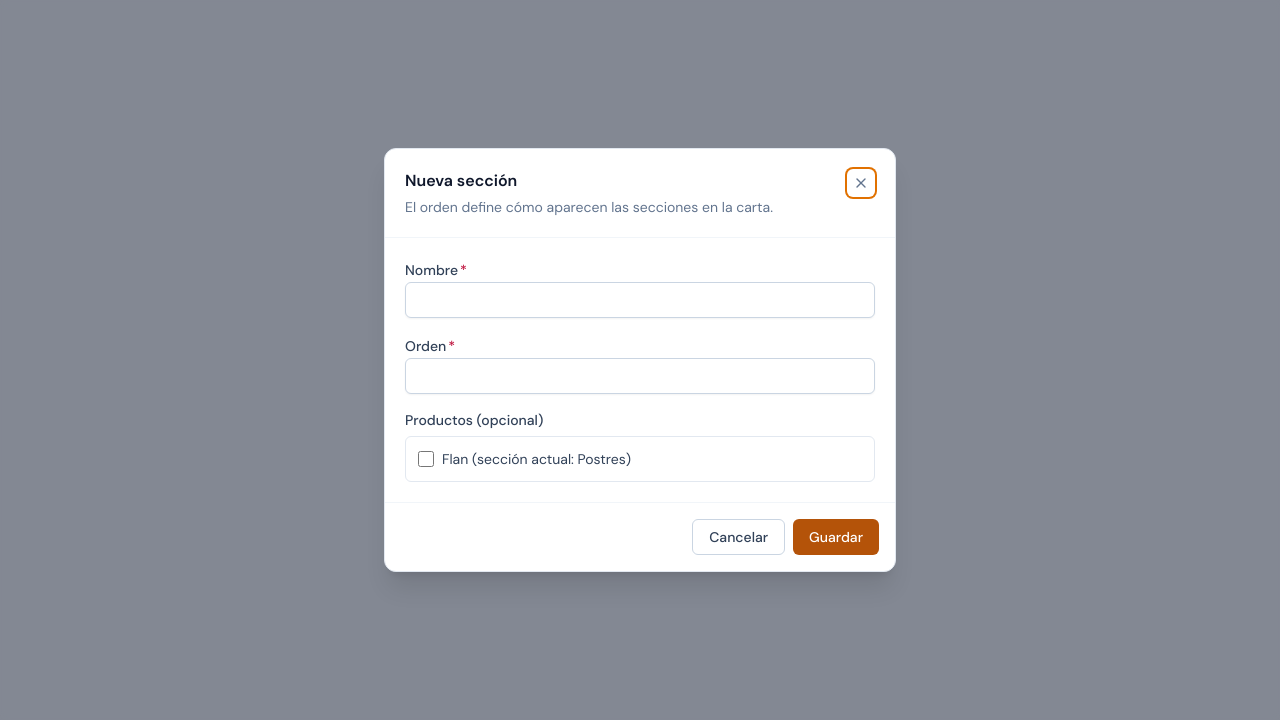
SeccionFormDialog: errores del servidor › muestra el 409 de nombre repetido bajo el campo (CA 3)
Type "Postres" into the field labelled "Nombre*". click: (640, 300)
box: 405,282 -> 875,318
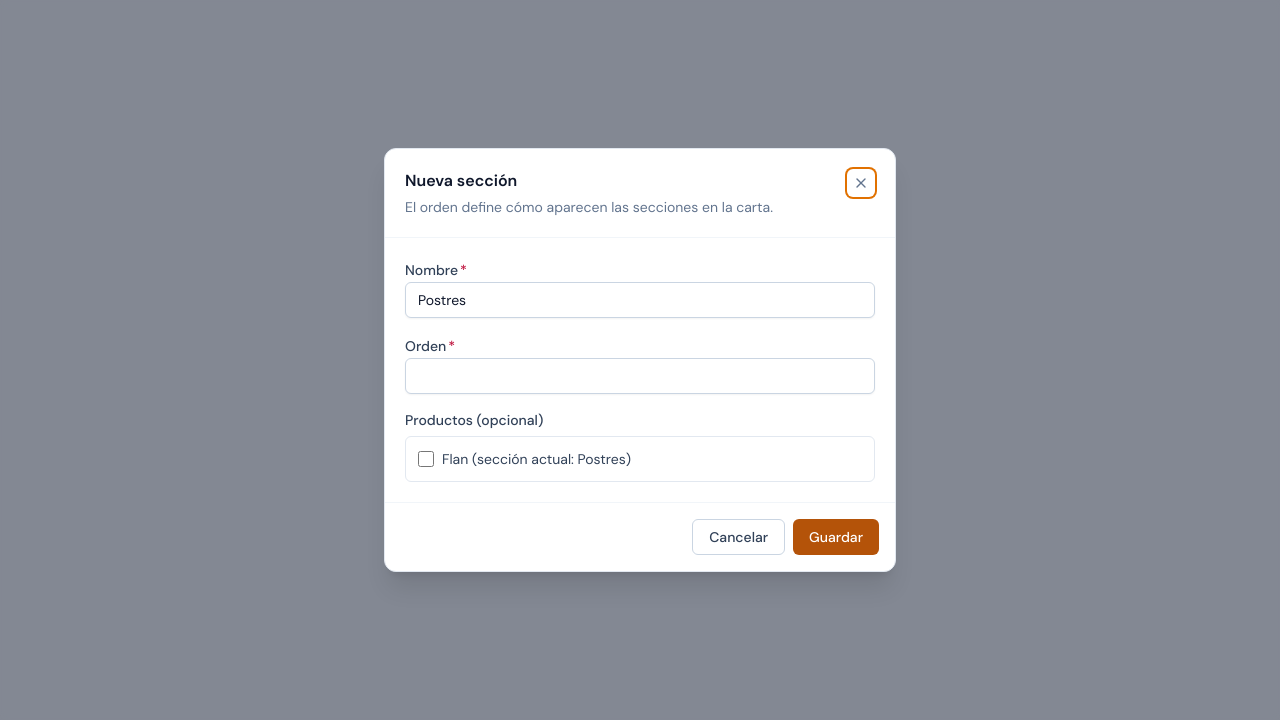
Type "1" into the field labelled "Orden*". click: (640, 376)
box: 405,358 -> 875,394
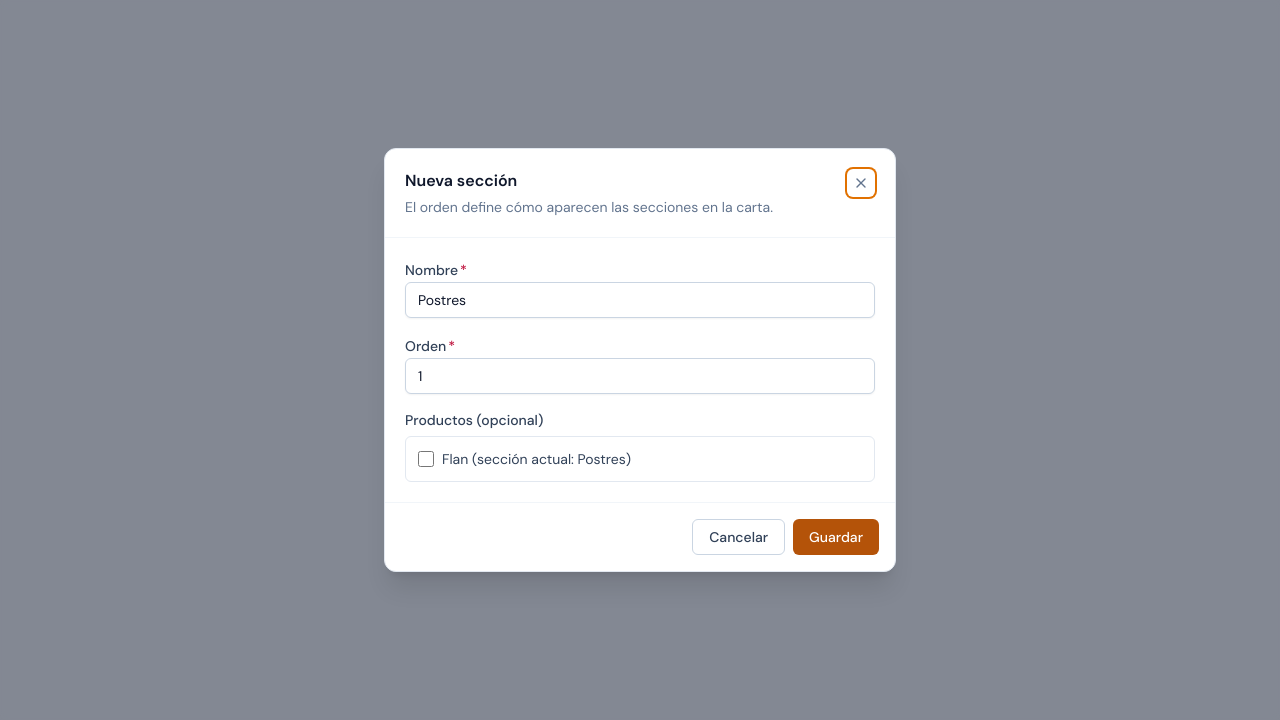
Click the button "Guardar". click: (836, 537)
box: 793,519 -> 879,555
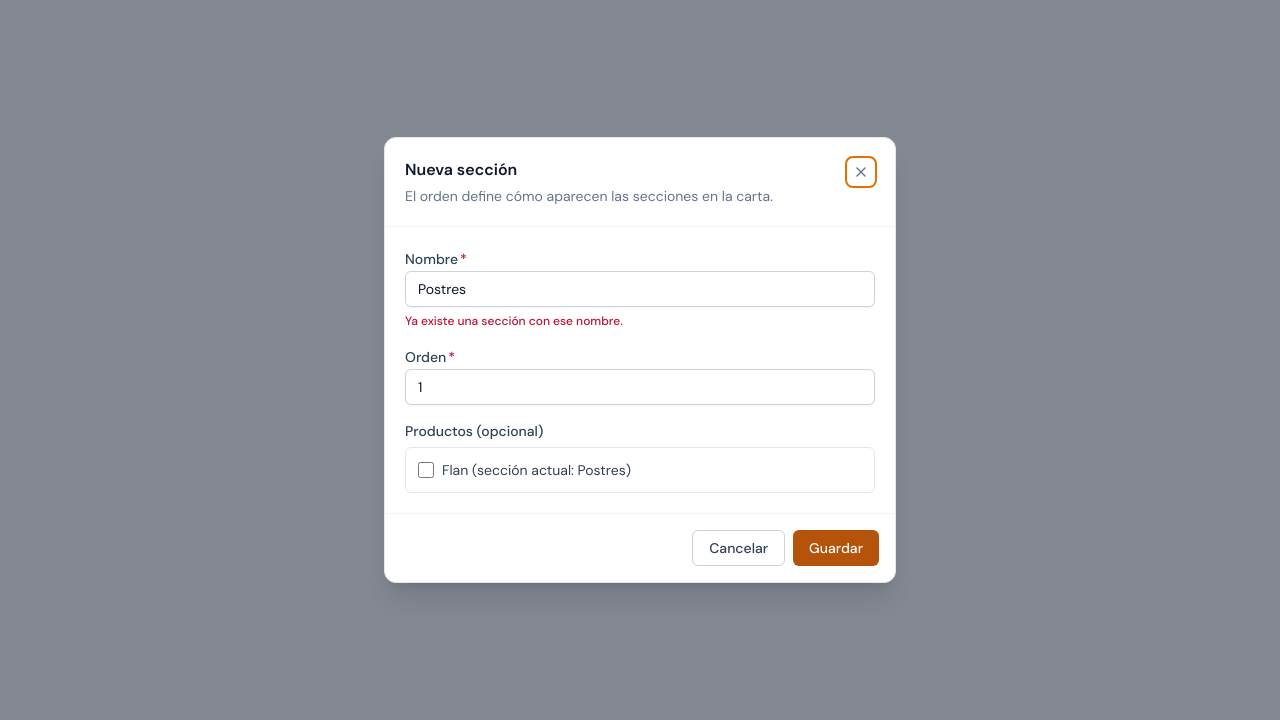
Expected: the text "Ya existe una sección con ese nombre." is shown, 405,313 -> 623,329
